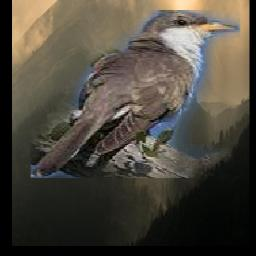Cuckoo: (31, 10, 240, 178)
